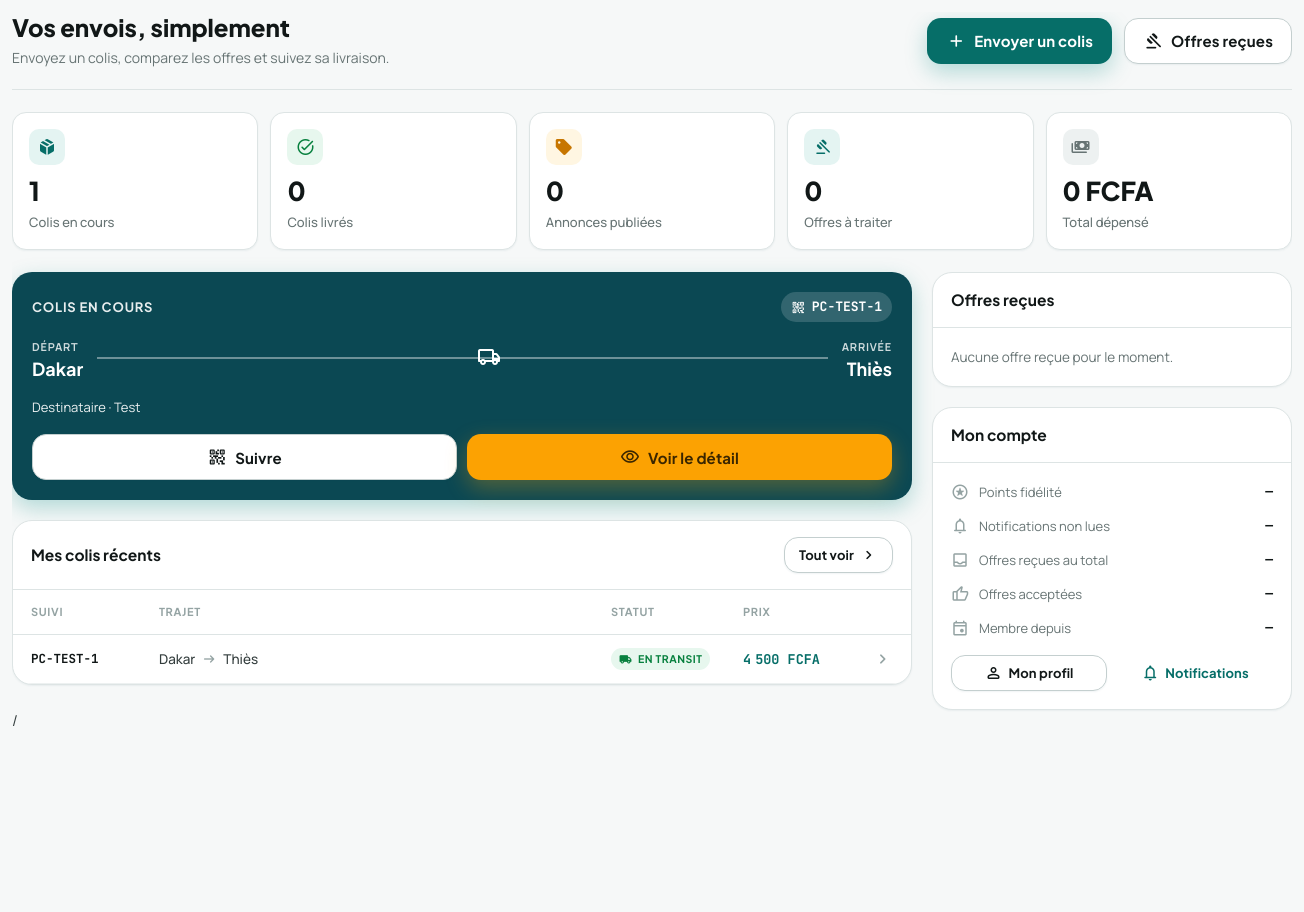
Test case: le bouton Suivre ouvre le suivi prérempli sans être remplacé par le clic de la carte
Click the button "Suivre" at (244,457), box top-left (32, 434), bottom-right (457, 480)
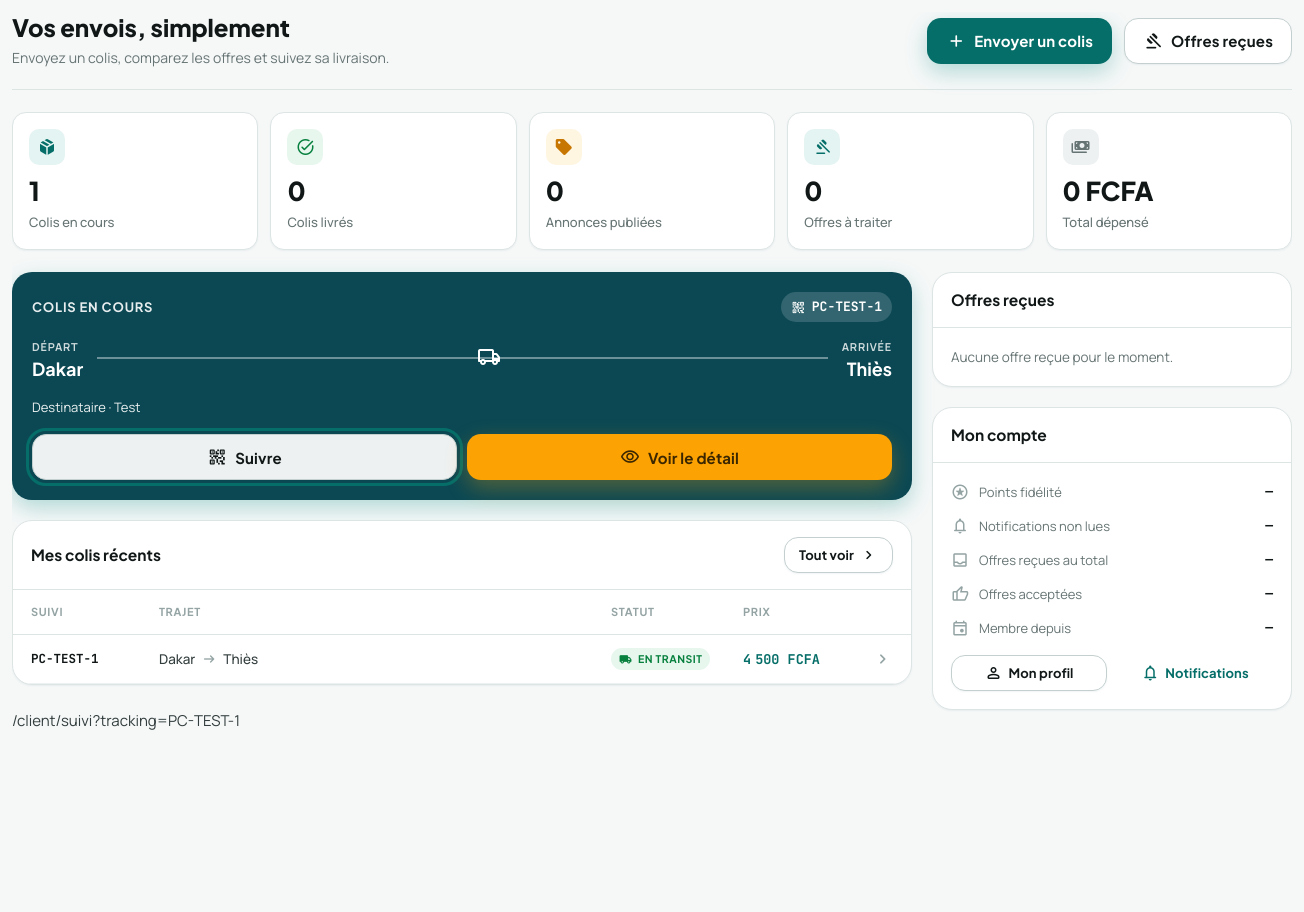
expect the text named "Destination" reads "/client/suivi?tracking=PC-TEST-1": met, box top-left (12, 710), bottom-right (240, 731)
